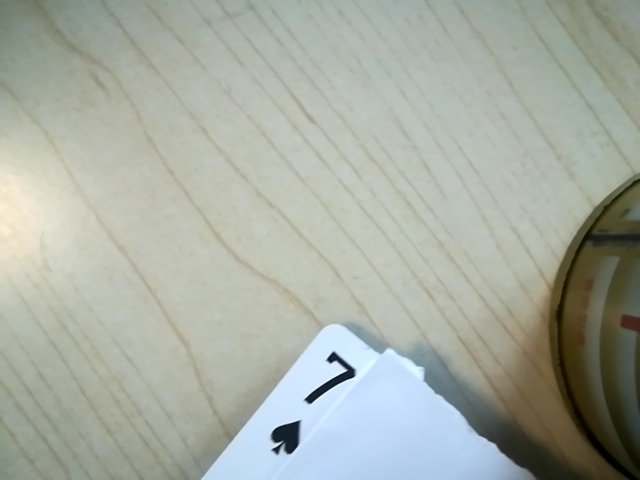ht 7: (250, 346, 368, 466)
